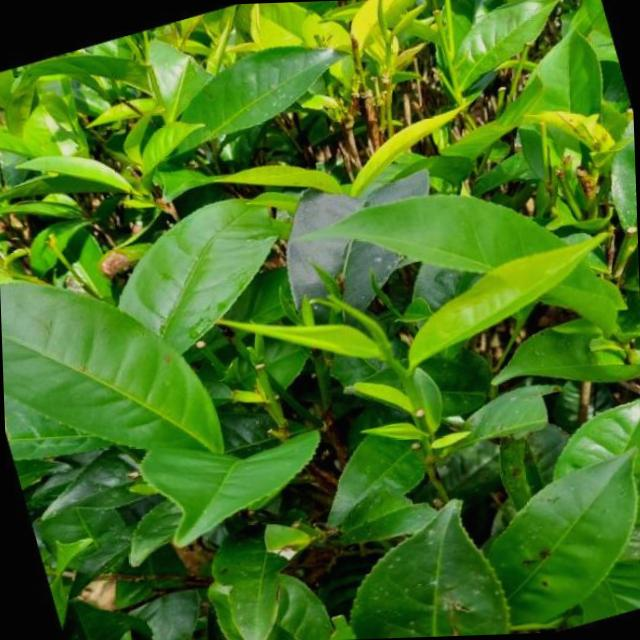Stem: (400, 370, 415, 384)
